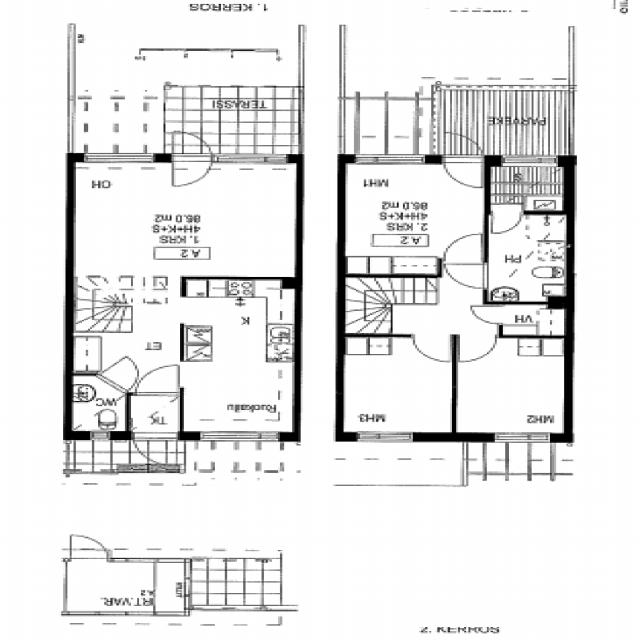door: (96, 357, 153, 393), (134, 433, 177, 469), (443, 128, 482, 164), (443, 154, 483, 188), (172, 129, 210, 163), (172, 153, 210, 187), (136, 366, 177, 395), (444, 234, 482, 265), (413, 334, 450, 362), (459, 334, 496, 362), (451, 266, 488, 287), (491, 211, 522, 234), (472, 306, 502, 324)
